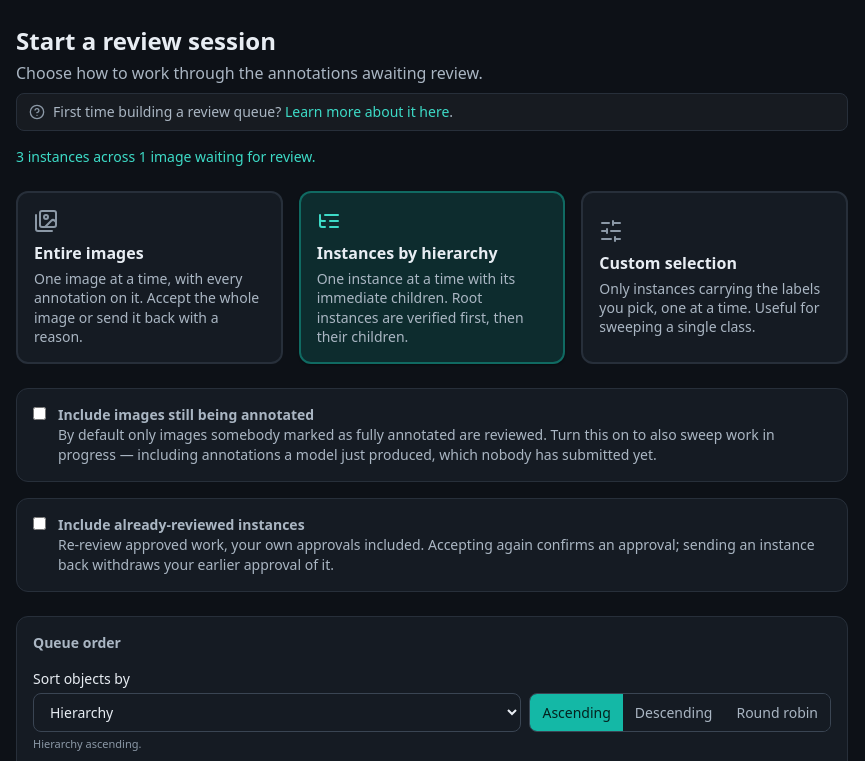
Test: custom selection cannot be recommended
This screenshot has width=865, height=761.
Step 1. Click the button "Custom selection" → [715, 278], box x1=581 y1=191 x2=848 y2=364
(page scrolled)
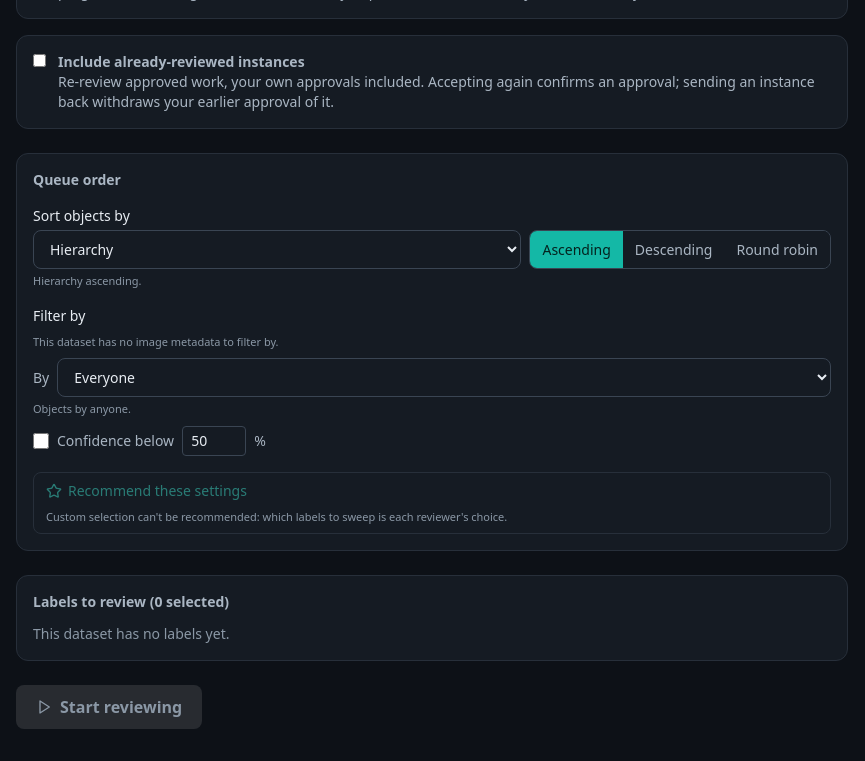
Check: the button "Recommend these settings" is disabled, box x1=46 y1=480 x2=247 y2=500
